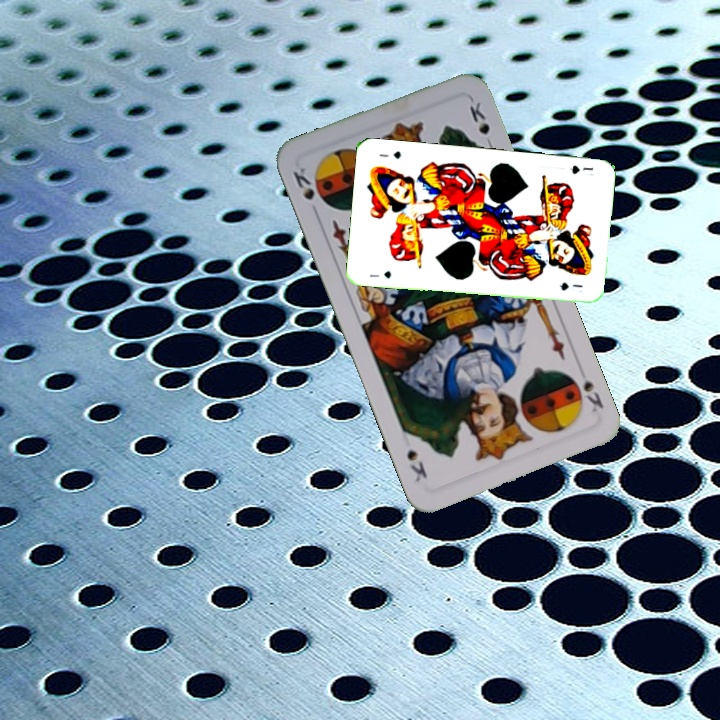GU: (566, 161, 596, 178), (366, 267, 393, 281)
SK: (565, 370, 606, 415), (289, 163, 317, 203)
